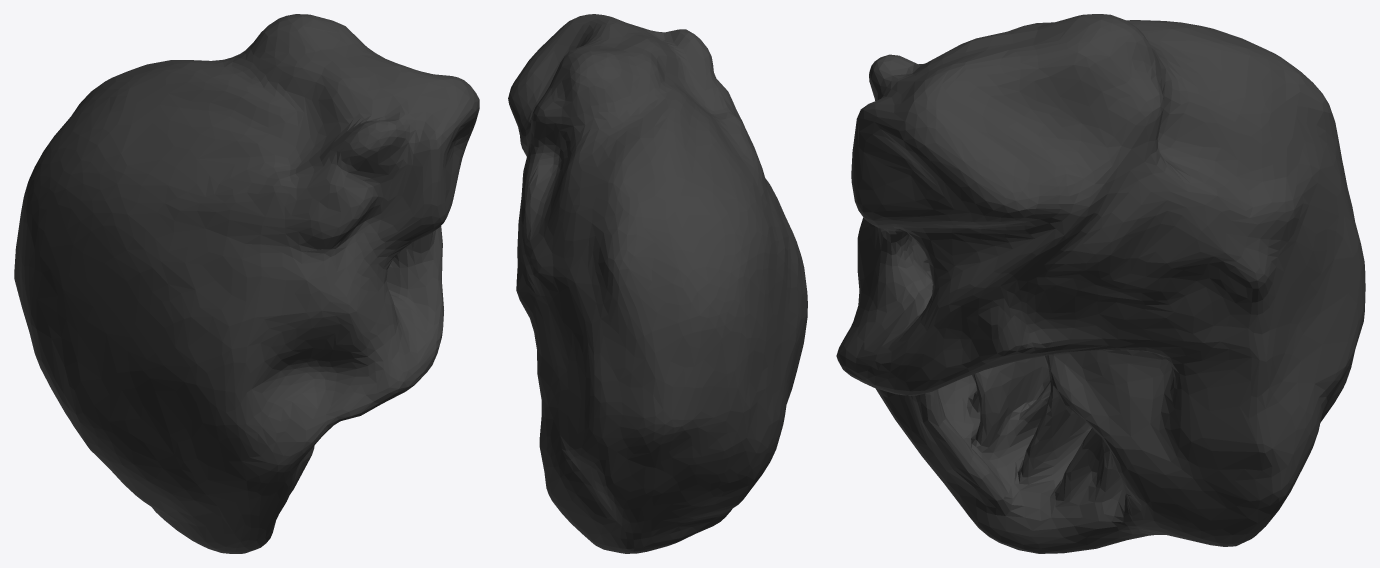
The model's file is Goat_omasum_low.glb.
3 renders of one model, left to right at view 1: azimuth 30°, elevation 25°; view 2: azimuth 150°, elevation 25°; view 3: azimuth 270°, elevation 25°, orthographic. The views are drawn at different scales.
Visible parts, largest first — view 1: Goat_omasum_low; view 2: Goat_omasum_low; view 3: Goat_omasum_low.
Boxes of the visible parts, bbox=[...] form: Goat_omasum_low: bbox=[14, 14, 479, 553]; Goat_omasum_low: bbox=[508, 14, 807, 553]; Goat_omasum_low: bbox=[836, 14, 1365, 553].
Bounding box in the file's own units: 1.06 × 1.45 × 1.18.
1 material, 1 textured.
